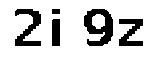2: (12, 6, 44, 48)
9: (82, 5, 115, 50)
i: (51, 5, 62, 49)
z: (118, 16, 147, 50)
